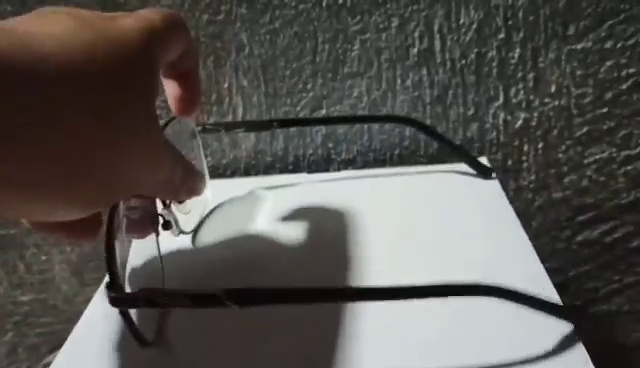glasses: (96, 105, 581, 355)
